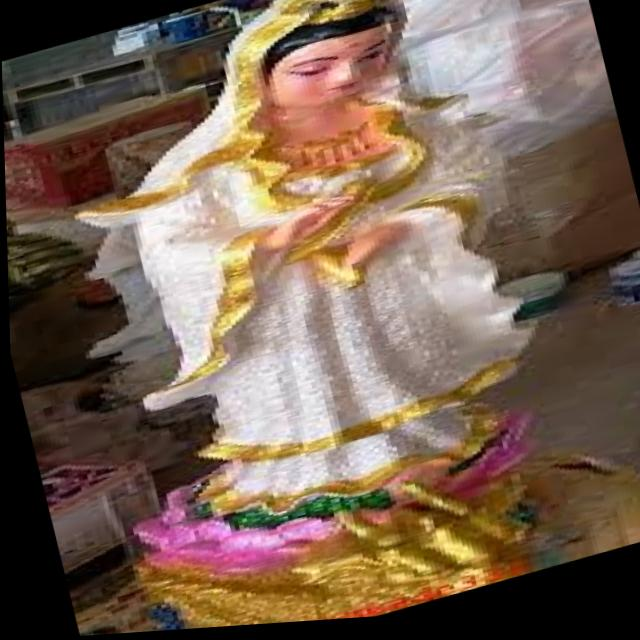Guan Yin: (47, 0, 560, 489)
